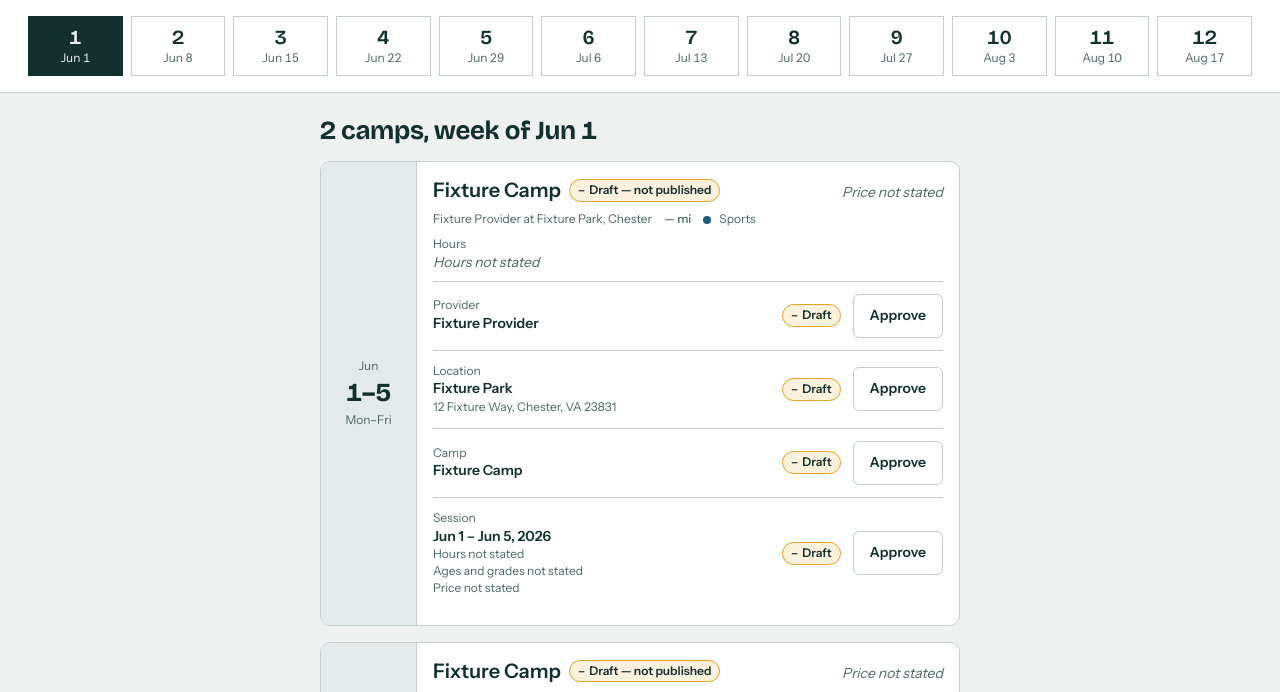
Test: SummerWeeks, for a reviewer › turns that session’s provenance to Verified on the day, and not the other card’s
What coordinates should you click on to do the following:
click the button with aria-label "Approve session: Fixture Camp"
I would click on:
 (898, 553)
Its box is [852,531,943,575].
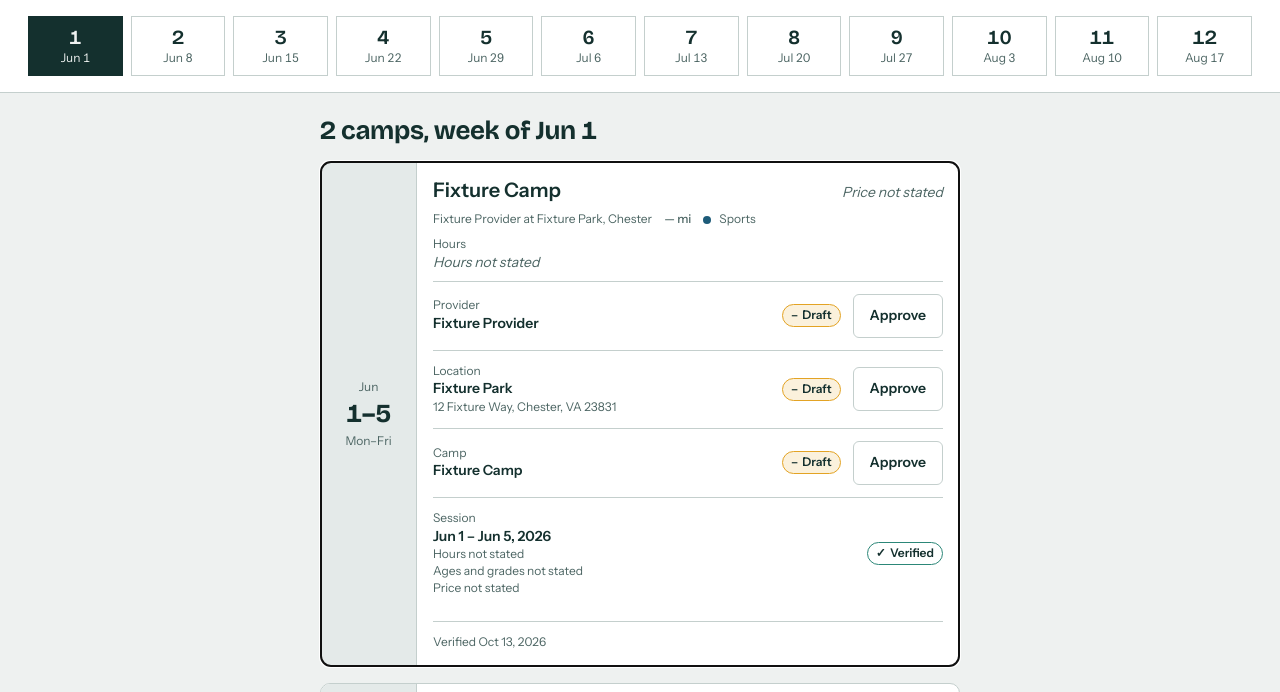
Expected: the text "Verified Oct 13, 2026" is shown, [433,634,546,650]
